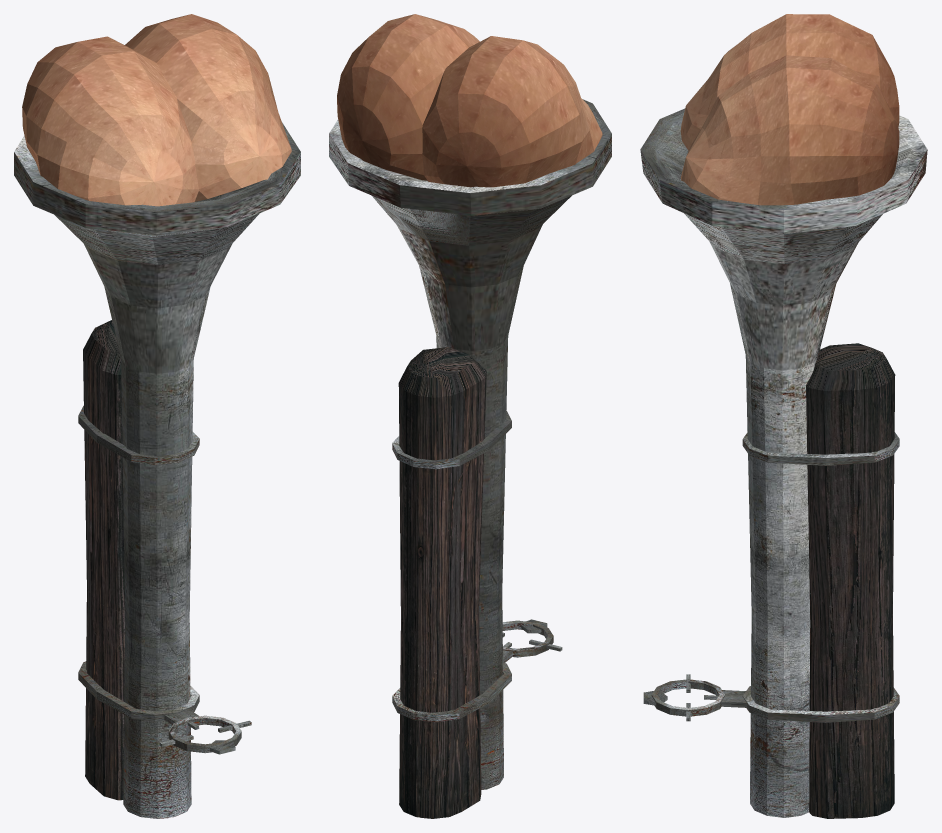
Rendered from gun.glb.
The picture shows the model from 3 angles, left to right: view 1: azimuth 30°, elevation 25°; view 2: azimuth 150°, elevation 25°; view 3: azimuth 270°, elevation 25°; orthographic projection.
Visible parts, largest first — view 1: Sphere; view 2: Sphere; view 3: Sphere.
Part boxes in pixels (x1,y1,x2,y2): Sphere: (14, 14, 300, 818); Sphere: (329, 14, 611, 818); Sphere: (640, 14, 927, 818).
Size of the model in its own units: 1.14 by 3.37 by 1.14.
3 materials, 3 textured.
